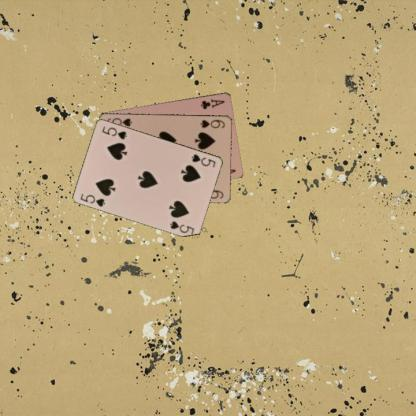5s: (189, 151, 217, 169), (78, 191, 106, 208)
6s: (198, 118, 226, 130)
Ac: (198, 96, 226, 110)
